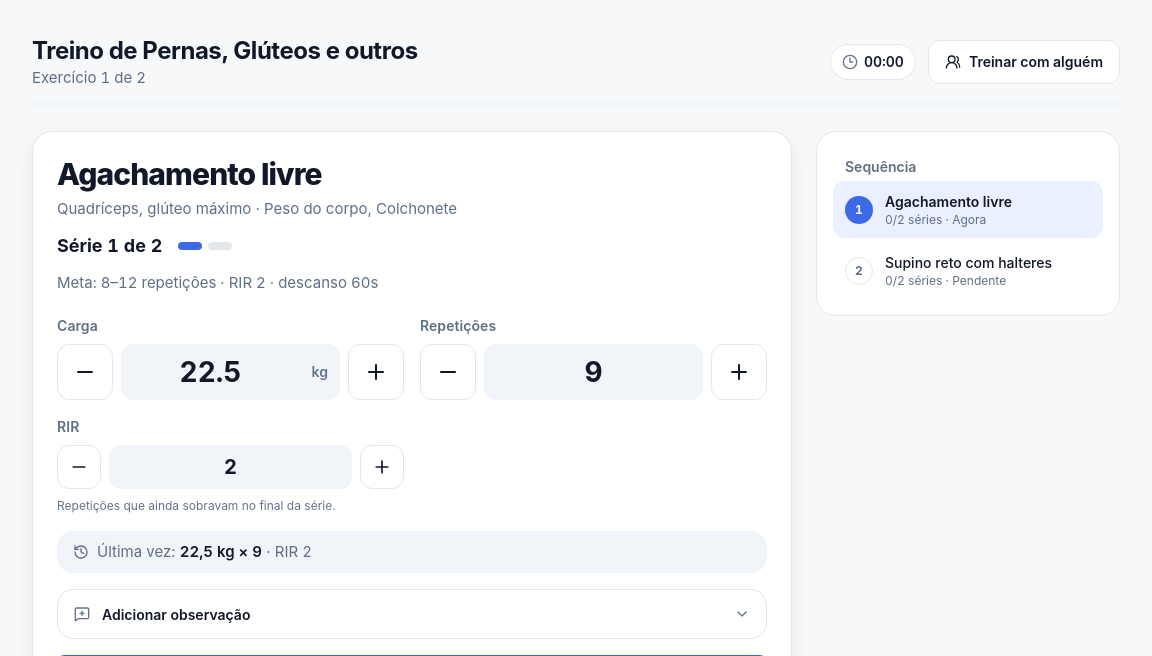
WorkoutPageClient › starts from the last result of the exercise and lets the person repeat it
The image size is (1152, 656).
Check: the text "Última vez: 22,5 kg × 9 · RIR 2" is shown, box [97,540,312,563]
Check: the number field labelled "Carga" holds "22.5", box [121,344,340,400]
...e, se a pessoa mudar, um toque volta ao último resultado.
Click the button named "Aumentar carga".
click(376, 372)  # box [348,344,404,400]
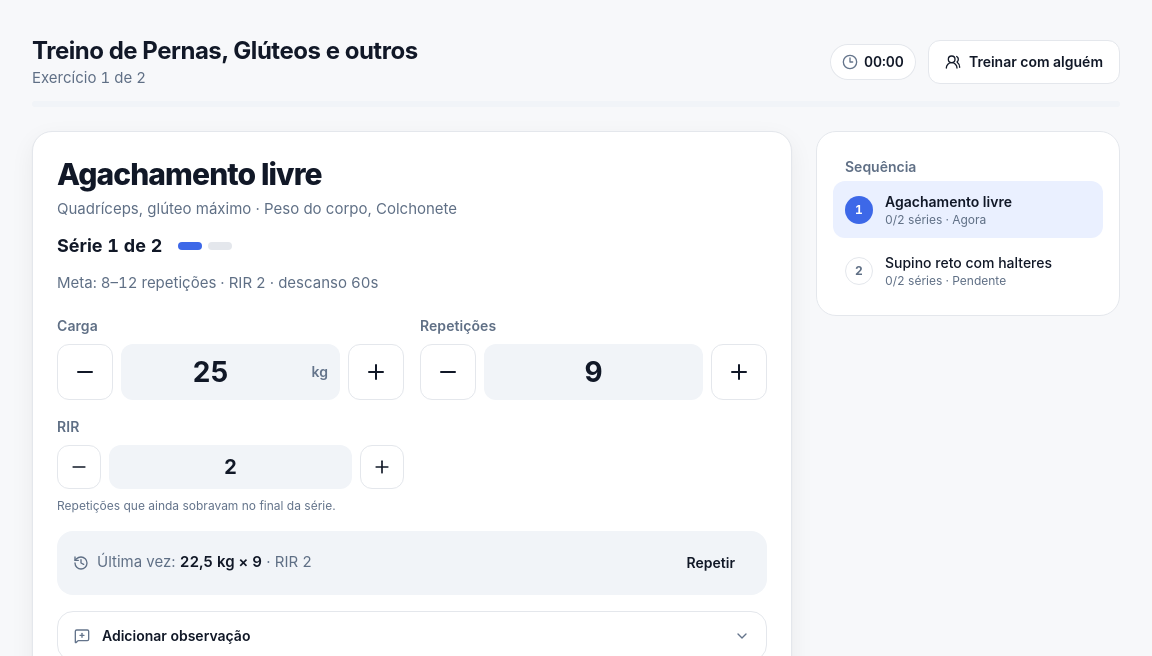
Check: the number field labelled "Carga" holds "25", box [121,344,340,400]
Click the button "Repetir".
click(711, 562)  # box [671,540,751,584]
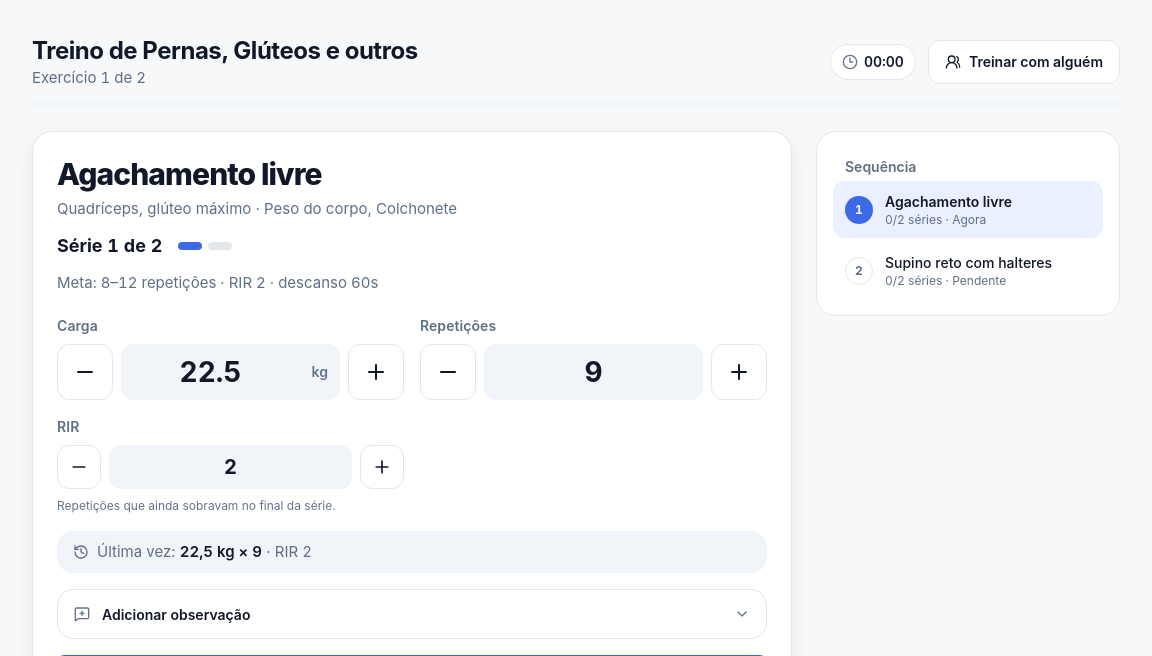
Check: the number field labelled "Carga" holds "22.5", box [121,344,340,400]
